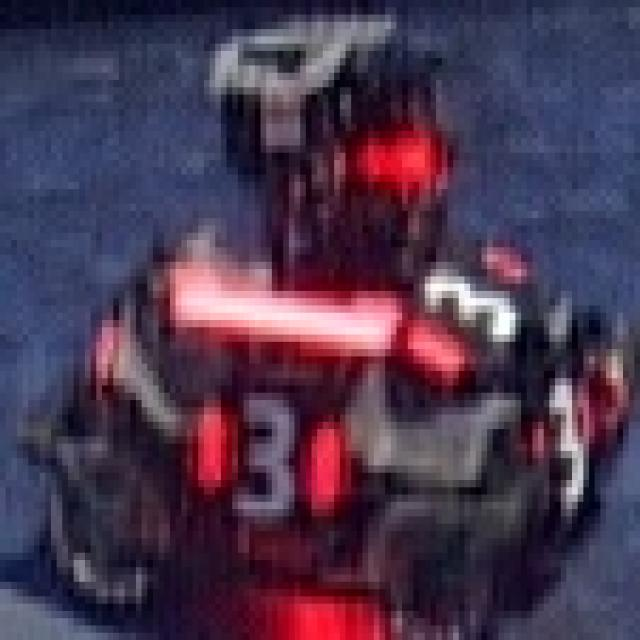R3: (167, 382, 360, 527), (524, 331, 603, 520), (411, 232, 524, 364)
